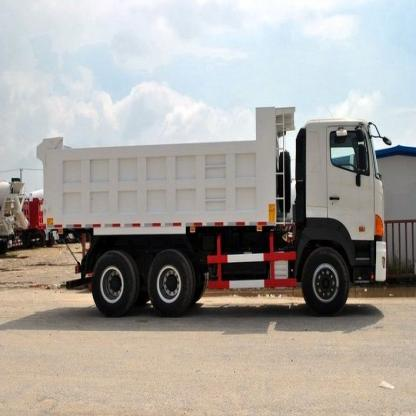dump_truck: (37, 94, 394, 334)
